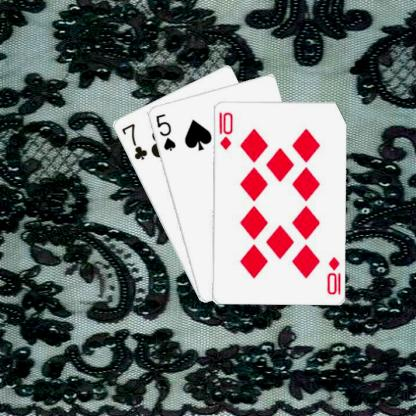10D: (216, 109, 233, 151), (324, 254, 341, 296)
5S: (152, 111, 176, 152)
7C: (119, 121, 148, 161)
